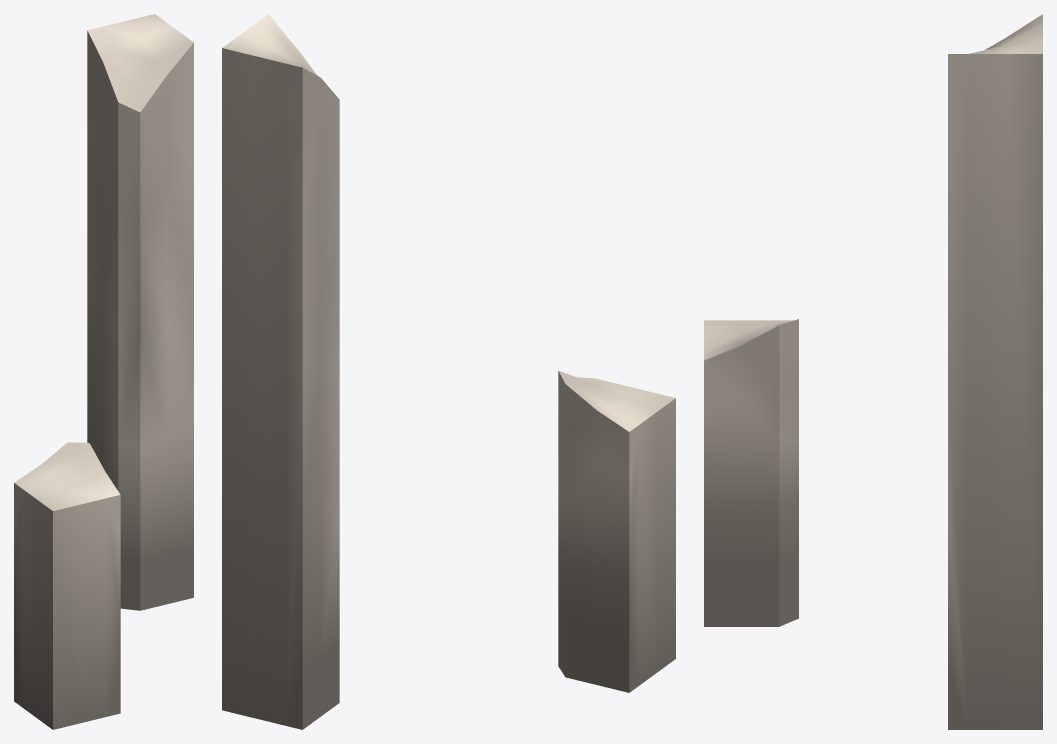
The model's file is SM_VKI_Rock_Cave_COFO_WallENW.fbx.
The picture shows the model from 3 angles, left to right: view 1: azimuth 30°, elevation 25°; view 2: azimuth 150°, elevation 25°; view 3: azimuth 270°, elevation 25°; orthographic projection. The views are drawn at different scales.
Parts seen in each view (by area): view 1: SM_VKI_Rock_Cave_COFO_WallENW.001; view 2: SM_VKI_Rock_Cave_COFO_WallENW.001; view 3: SM_VKI_Rock_Cave_COFO_WallENW.001.
Boxes of the visible parts, x1,y1,x2,y2 form: SM_VKI_Rock_Cave_COFO_WallENW.001: [14, 14, 193, 729]; SM_VKI_Rock_Cave_COFO_WallENW.001: [222, 14, 675, 729]; SM_VKI_Rock_Cave_COFO_WallENW.001: [704, 14, 1042, 729].
Bounding box in the file's own units: 1.5 × 3.3 × 1.5.
